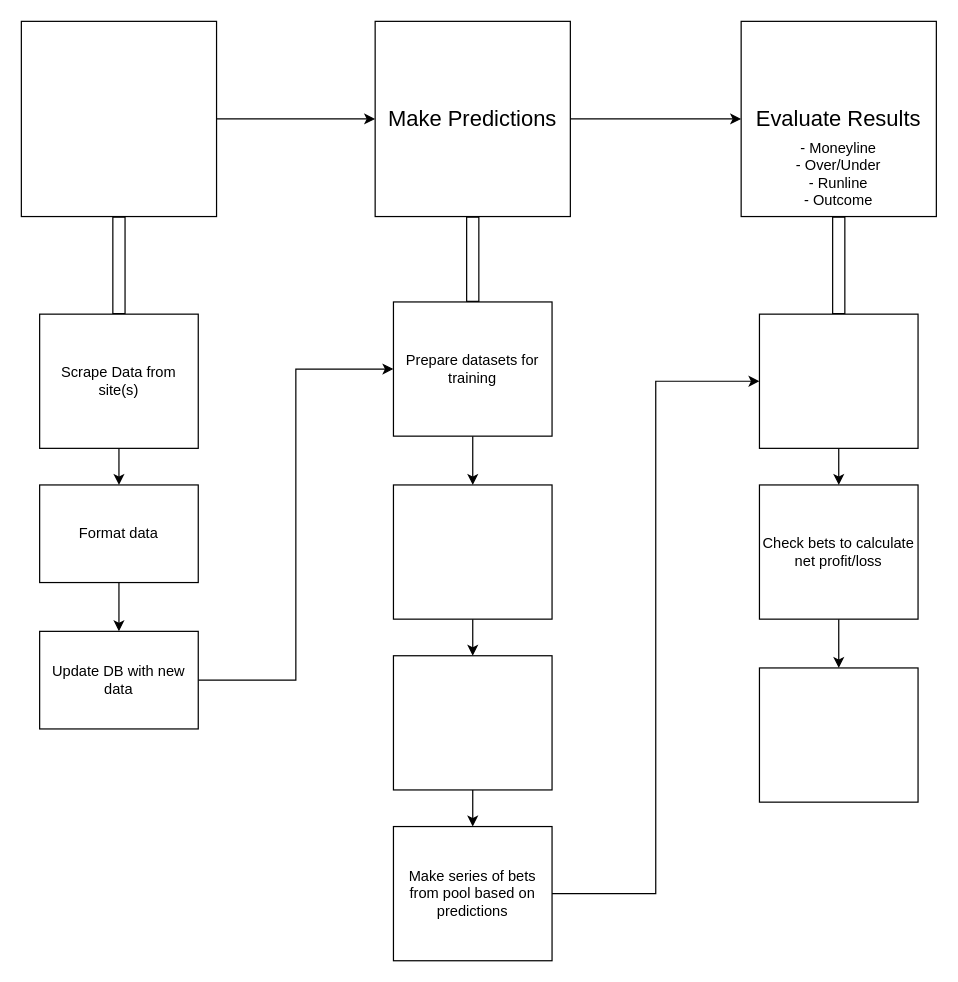
Image size: 958x982. Some labels were removed from this diagram. The shapes that lost their labels are listed below. From the top down, each one's box as (x1, y1, x2, y2) in pixels, then its label:
(20, 20, 217, 217): Input Game Data
(758, 313, 918, 448): After games occur, check predictions against real outcomes
(392, 484, 552, 619): Re-train model with updated data
(392, 655, 552, 790): Run upcoming games through new model
(758, 667, 918, 802): Update results in a dashboard
